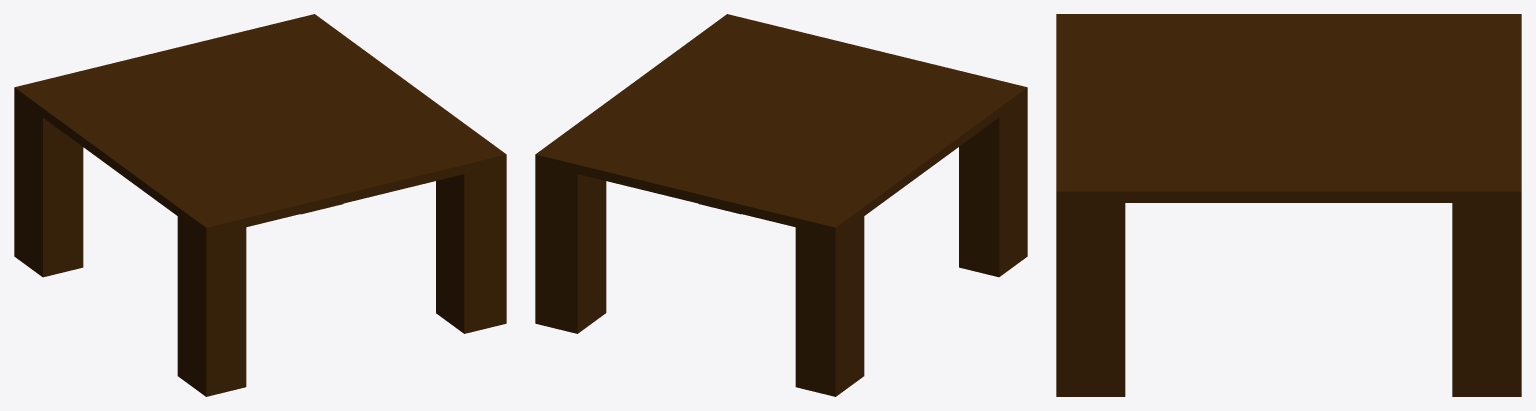
The model's file is Table.fbx.
3 renders of one model, left to right at view 1: azimuth 30°, elevation 25°; view 2: azimuth 150°, elevation 25°; view 3: azimuth 270°, elevation 25°, orthographic. The views are drawn at different scales.
Visible parts, largest first — view 1: Cube.036; view 2: Cube.036; view 3: Cube.036.
Part boxes in pixels (x1=…): Cube.036: x1=14, y1=14, x2=506, y2=396; Cube.036: x1=535, y1=14, x2=1027, y2=396; Cube.036: x1=1056, y1=14, x2=1521, y2=396.
Bounding box in the file's own units: 0.9131 × 0.4916 × 1.01.
